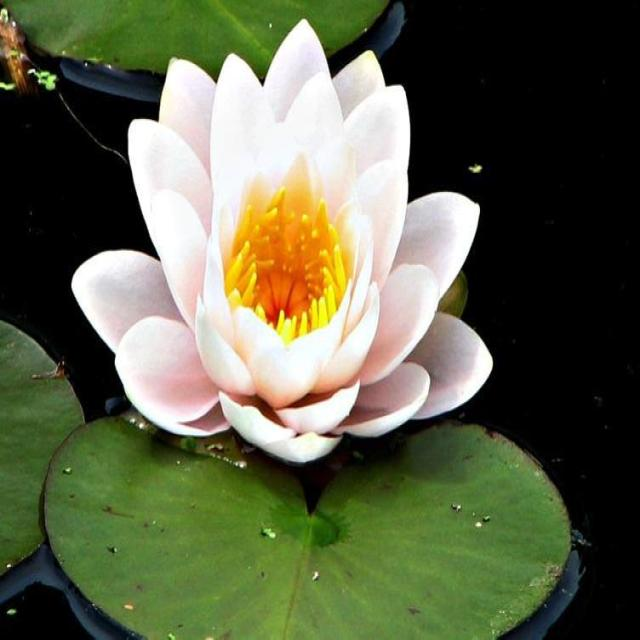rose: (56, 4, 563, 566)
